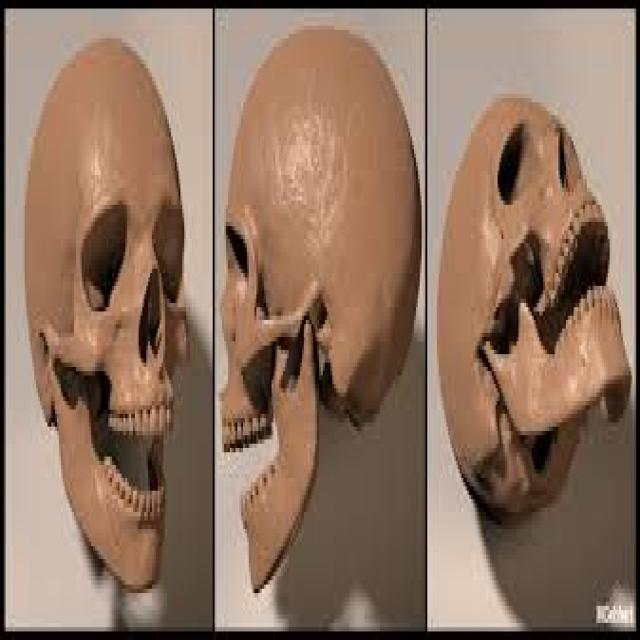skull: (18, 30, 203, 621), (434, 60, 630, 513)
